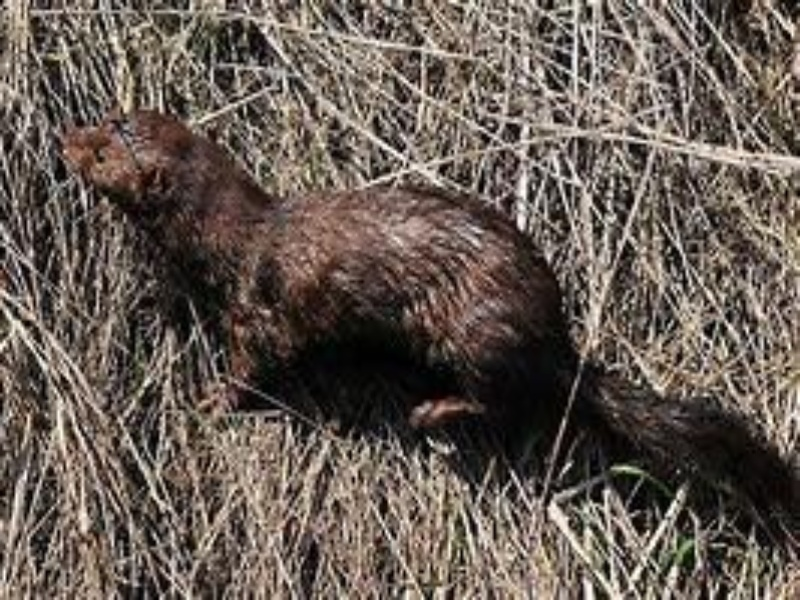minkish: (61, 109, 800, 541)
